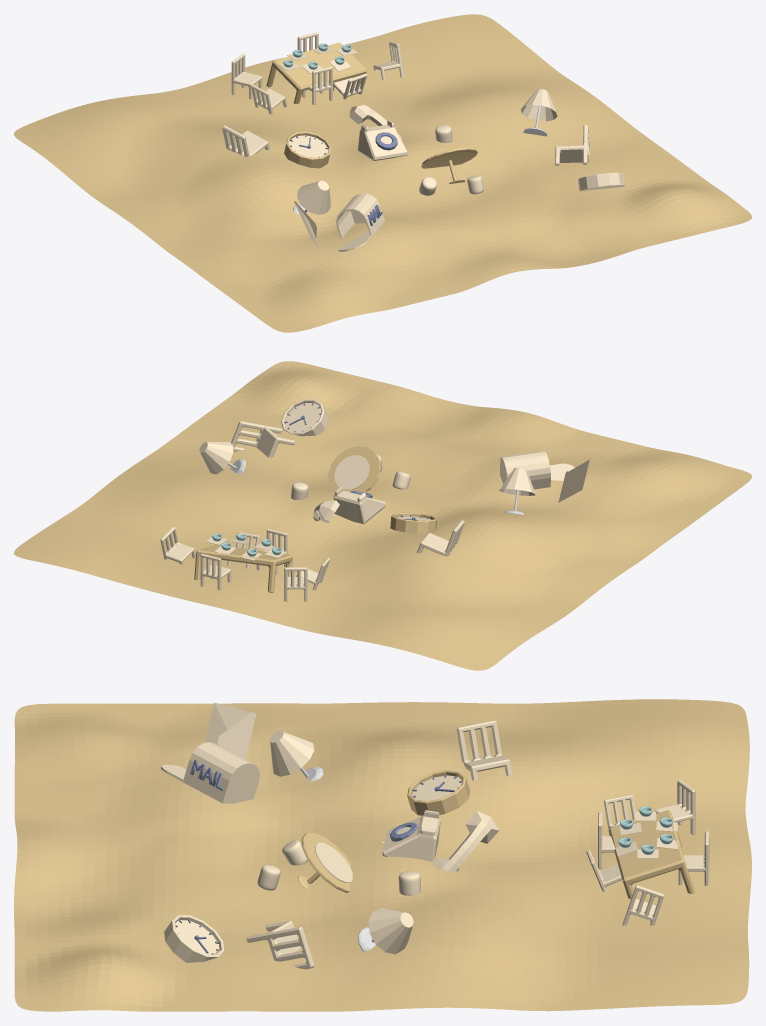
The picture shows the model from 3 angles, top to bottom: view 1: azimuth 30°, elevation 25°; view 2: azimuth 150°, elevation 25°; view 3: azimuth 270°, elevation 25°; orthographic projection. The views are drawn at different scales.
Parts seen in each view (by area): view 1: Plane.011, table.003, Cube.013, Cylinder, Cube.016, Cylinder.003, Chair.011, table, Cylinder.013, Chair.012, Chair, Cylinder.010 (+2 smaller); view 2: Plane.011, Cube.013, Cylinder.010, table.003, Cube.016, Chair.012, table, table.001, Cylinder, Cylinder.013, Chair.011, Chair.009 (+4 smaller); view 3: Plane.011, Cube.013, table.003, Cylinder, Cylinder.010, envelope.001, Cube.016, Chair.011, Chair.012, Cylinder.013, Cylinder.003, Cube.017 (+7 smaller).
Boxes of the visible parts, x1,y1,x2,y2 form: Plane.011: (14, 14, 751, 332); table.003: (266, 42, 366, 103); Cube.013: (336, 193, 384, 251); Cylinder: (284, 131, 331, 168); Cube.016: (358, 120, 408, 160); Cylinder.003: (297, 180, 330, 214); Chair.011: (222, 125, 269, 156); table: (421, 147, 477, 183); Cylinder.013: (520, 89, 557, 121); Chair.012: (555, 125, 589, 165); Chair: (231, 53, 262, 99); Cylinder.010: (578, 172, 625, 191); Plane.011: (14, 361, 751, 670); Cube.013: (500, 450, 574, 493); Cylinder.010: (281, 399, 328, 436); table.003: (194, 544, 292, 592); Cube.016: (333, 486, 385, 524); Chair.012: (231, 421, 295, 457); table: (328, 446, 380, 491); table.001: (334, 455, 369, 489); Cylinder: (390, 512, 436, 533); Cylinder.013: (199, 442, 233, 474); Chair.011: (417, 520, 464, 556); Chair.009: (160, 527, 195, 564); Plane.011: (14, 699, 751, 1011); Cube.013: (161, 742, 259, 803); table.003: (609, 810, 694, 898); Cylinder: (407, 770, 469, 815); Cylinder.010: (164, 915, 224, 962); envelope.001: (204, 702, 256, 759); Cube.016: (382, 810, 440, 861); Chair.011: (456, 720, 512, 780); Chair.012: (246, 921, 314, 969); Cylinder.013: (368, 908, 413, 954); Cylinder.003: (270, 731, 314, 776); Cube.017: (432, 810, 499, 871).
Size of the model in its own units: 5203 by 643 by 5269.
